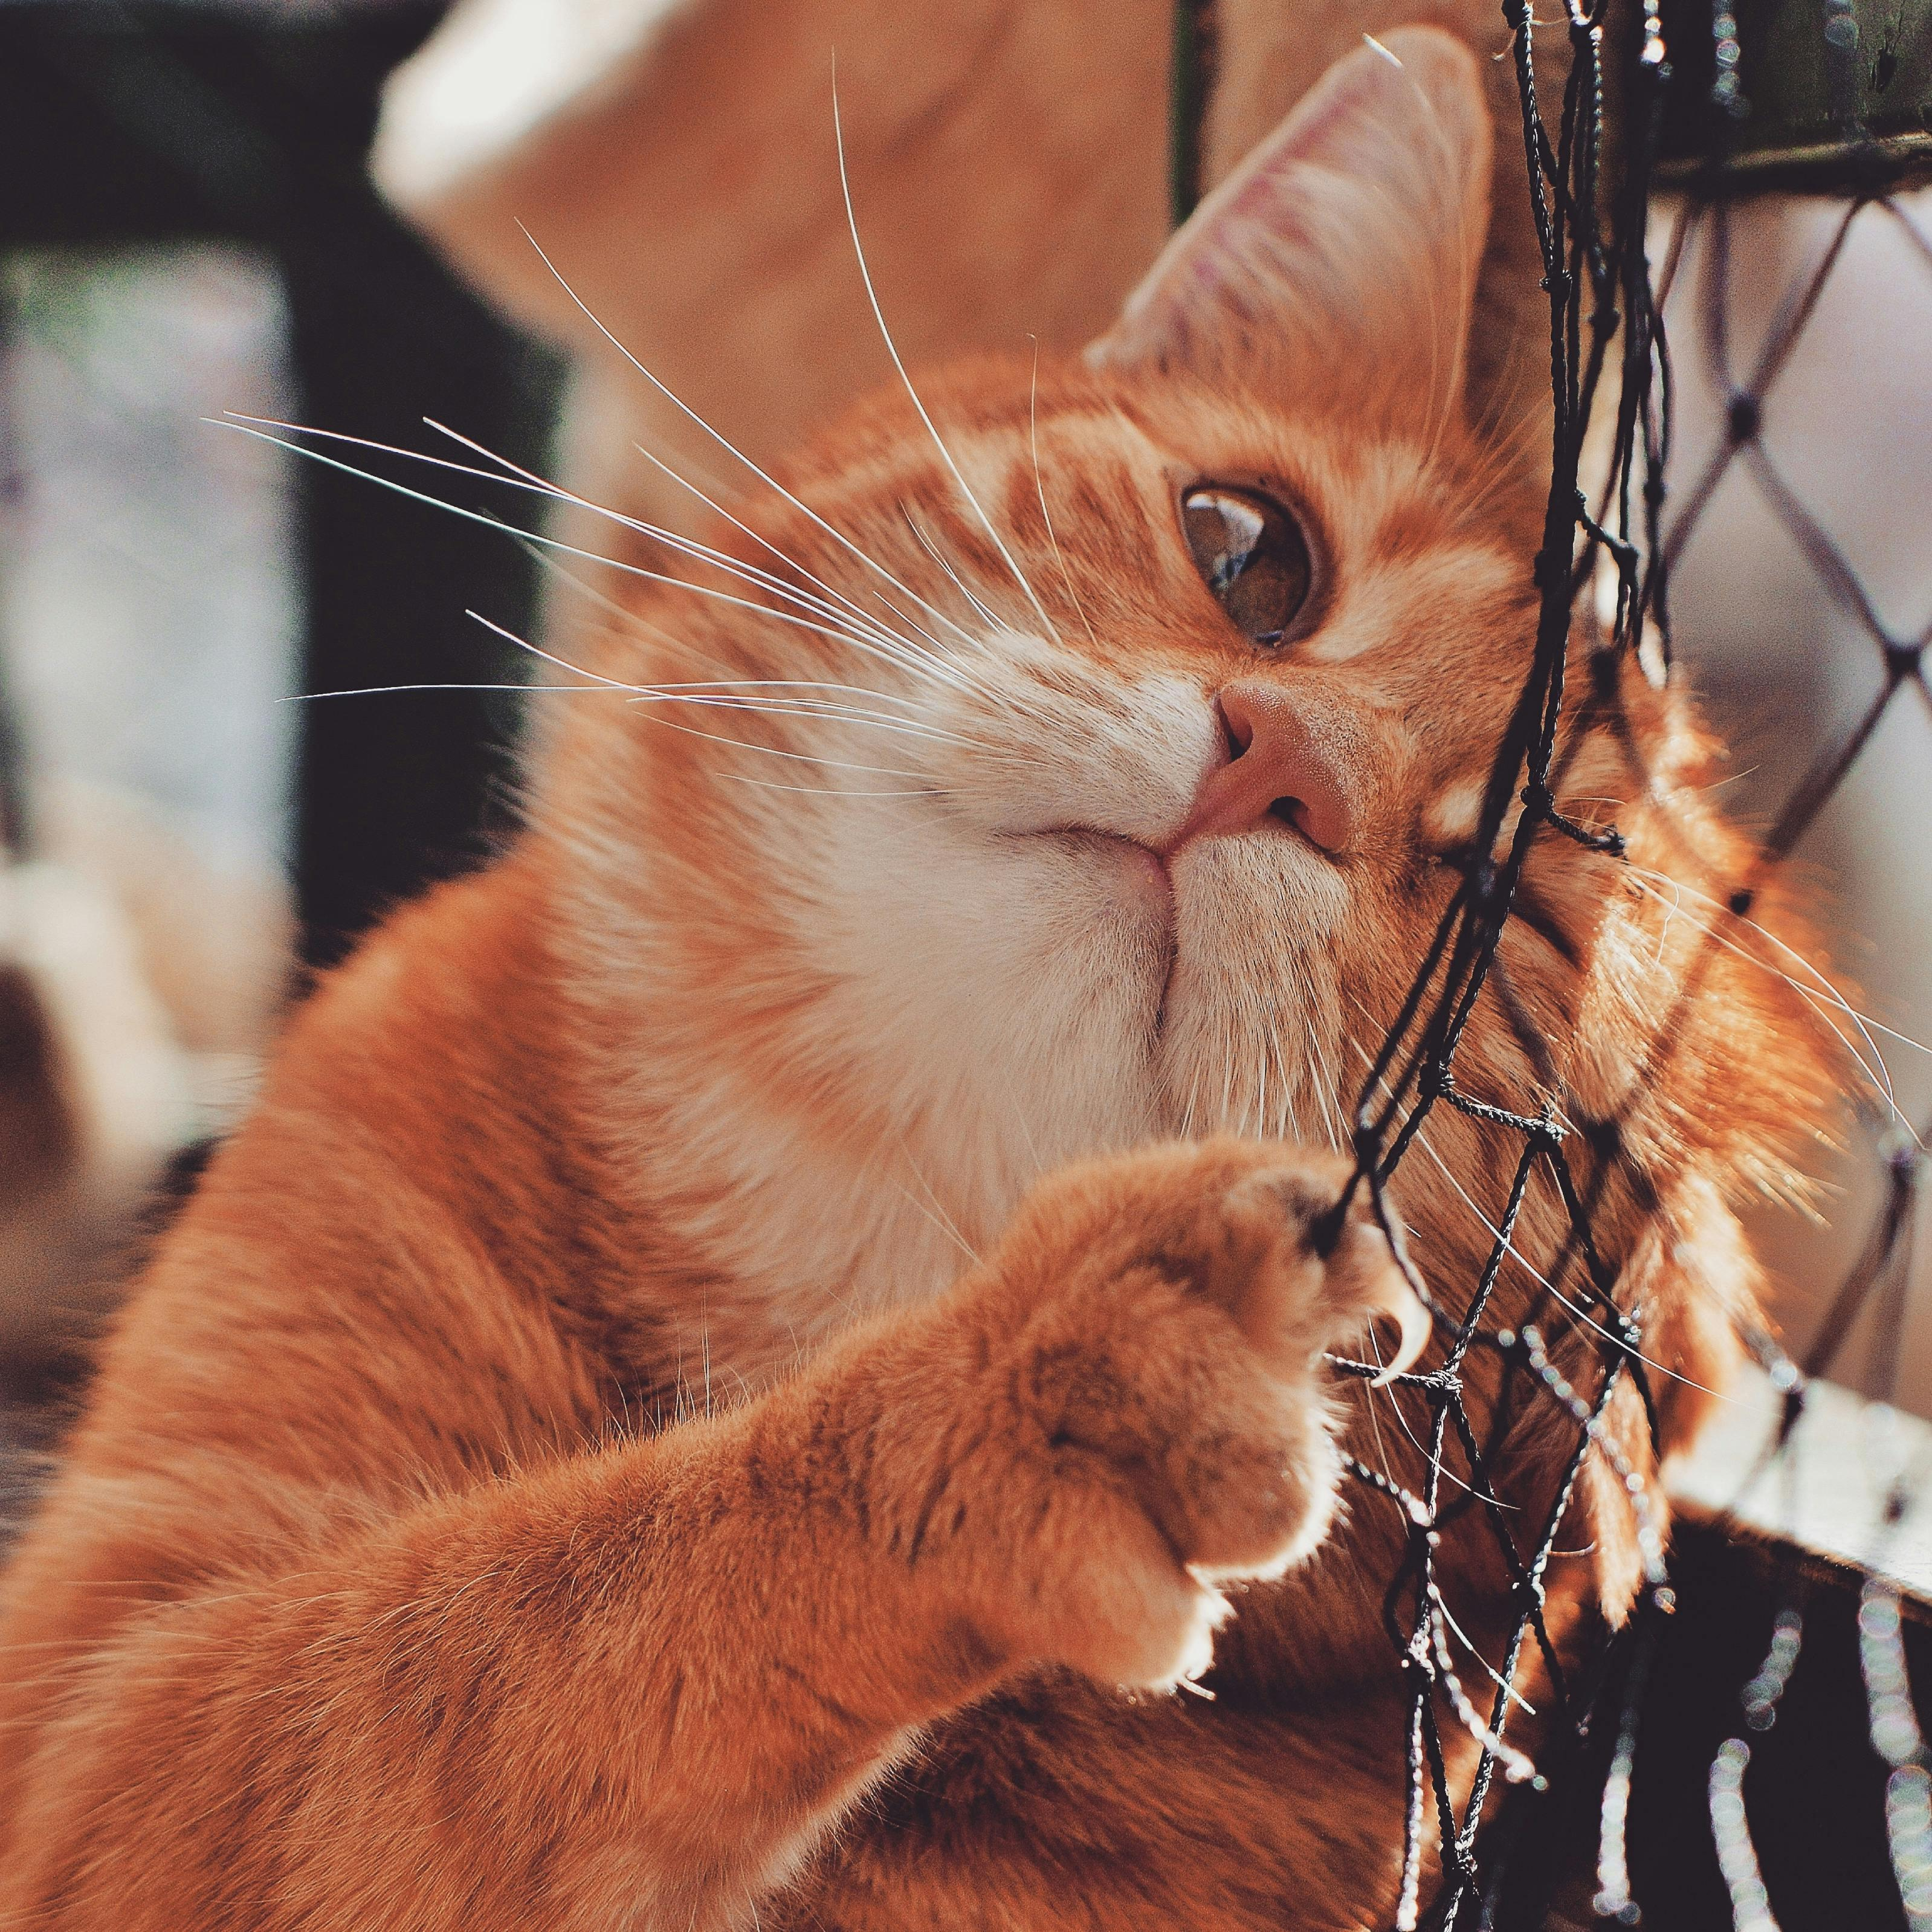kedo: (18, 19, 1893, 1932)
